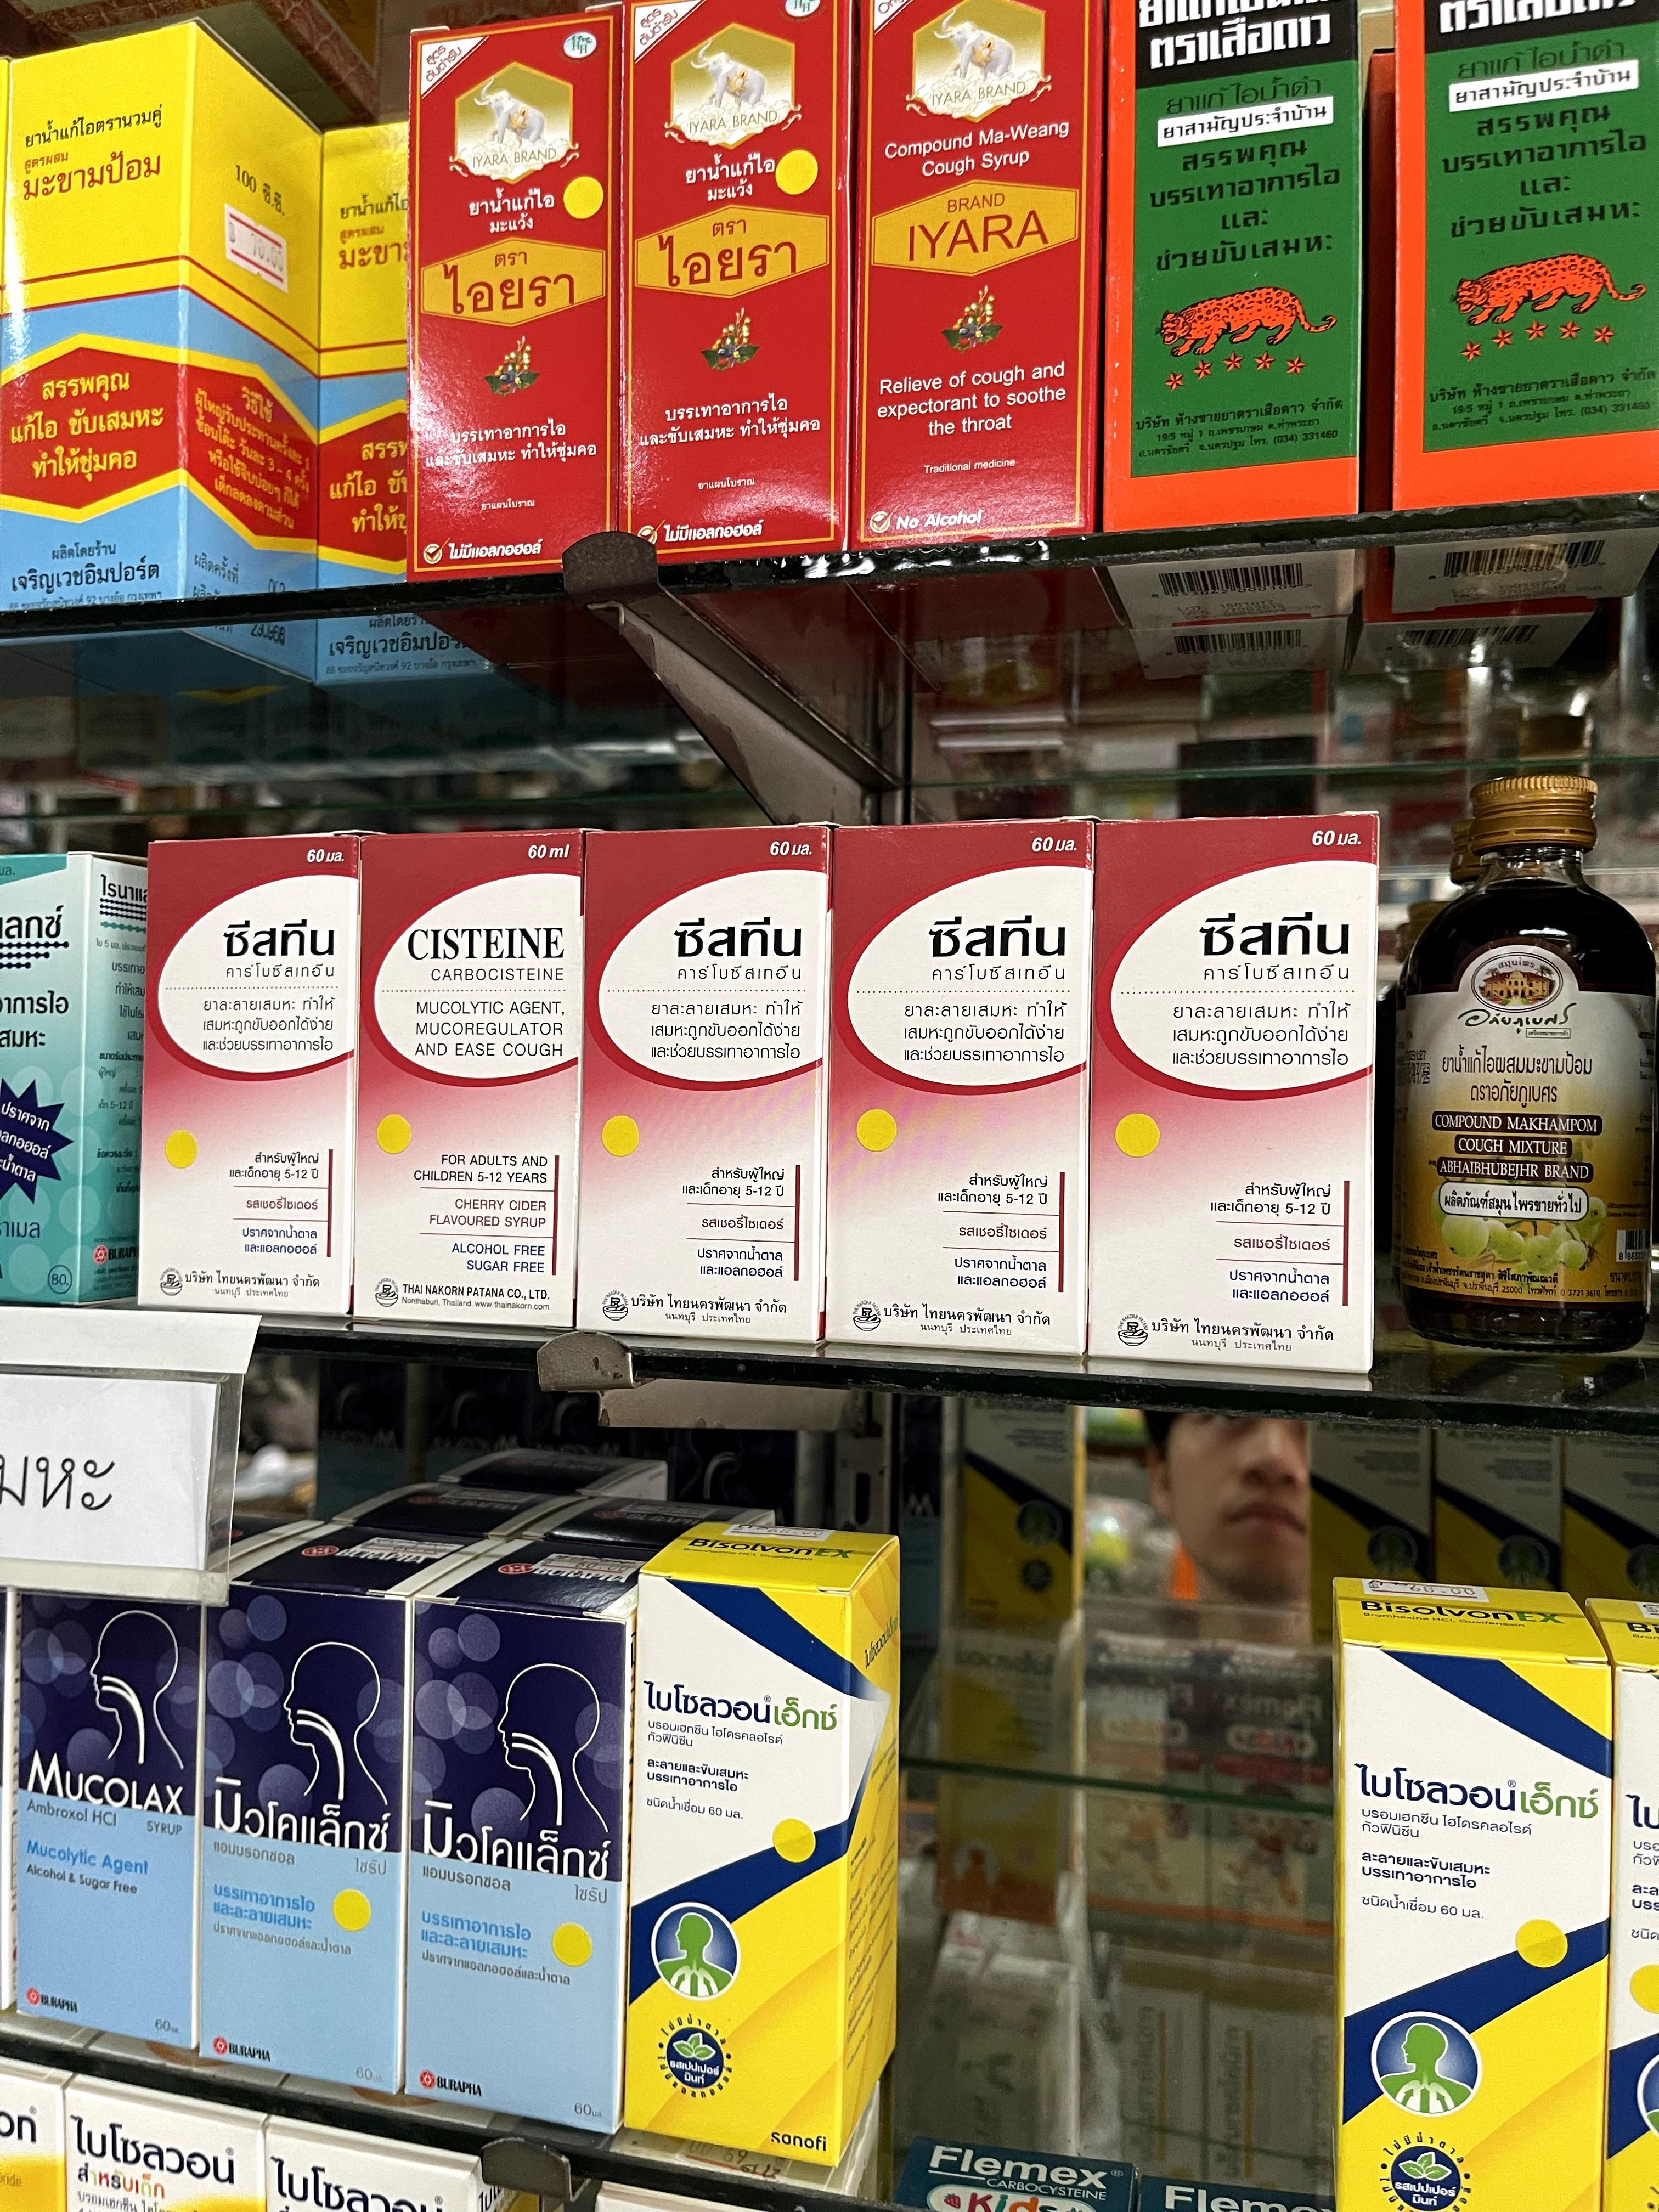Cisteine: (1094, 815, 1382, 1374), (826, 820, 1094, 1355), (589, 831, 817, 1341), (354, 831, 584, 1332), (153, 834, 357, 1312)
Iyara: (415, 9, 620, 587)
Ma-Kham-Pom: (3, 19, 329, 688), (321, 124, 502, 688)
Ma-Kham-Pom_Bottle: (1405, 779, 1659, 1359)
Mucolax: (411, 1552, 641, 2128), (209, 1527, 430, 2104), (10, 1580, 209, 2047)
Rhinalax: (0, 845, 138, 1308)
